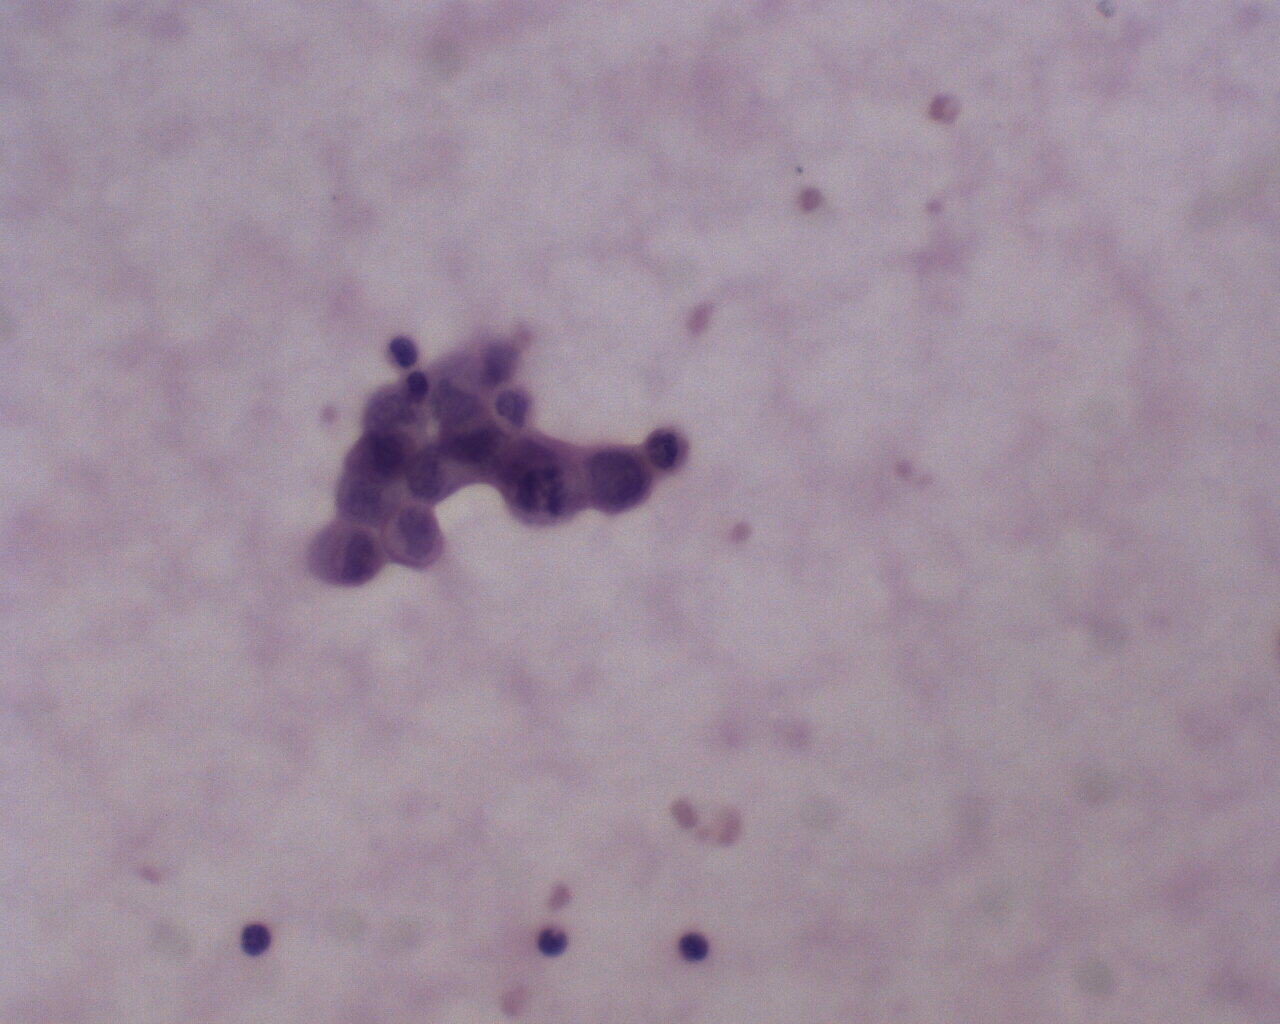ab: (308, 521, 386, 590), (587, 442, 655, 518), (385, 501, 450, 577), (345, 425, 423, 485)
lymph: (233, 918, 275, 960), (678, 929, 714, 965)
